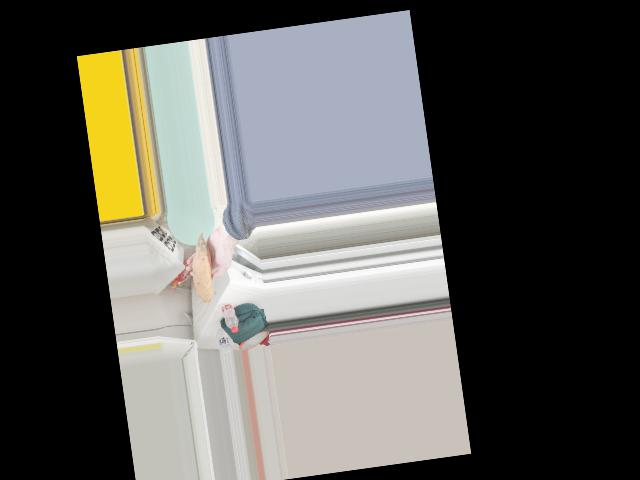sweet_potato: (189, 245, 221, 309)
